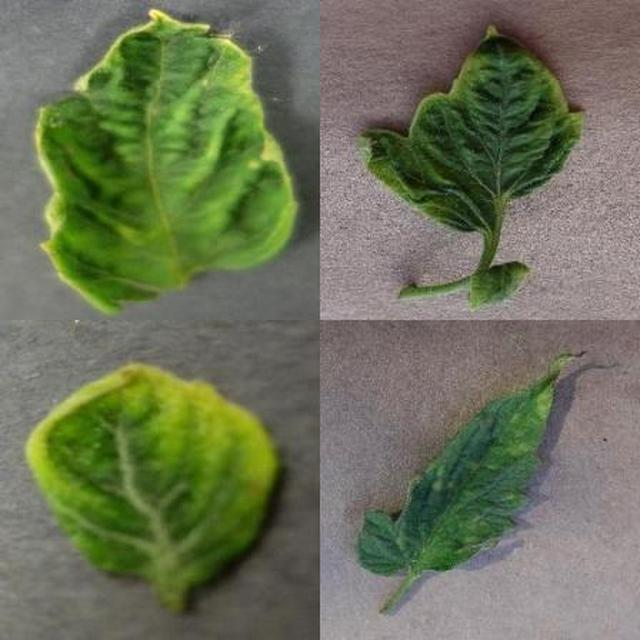Yellow Leaf Curl Virus: (219, 184, 640, 640)
